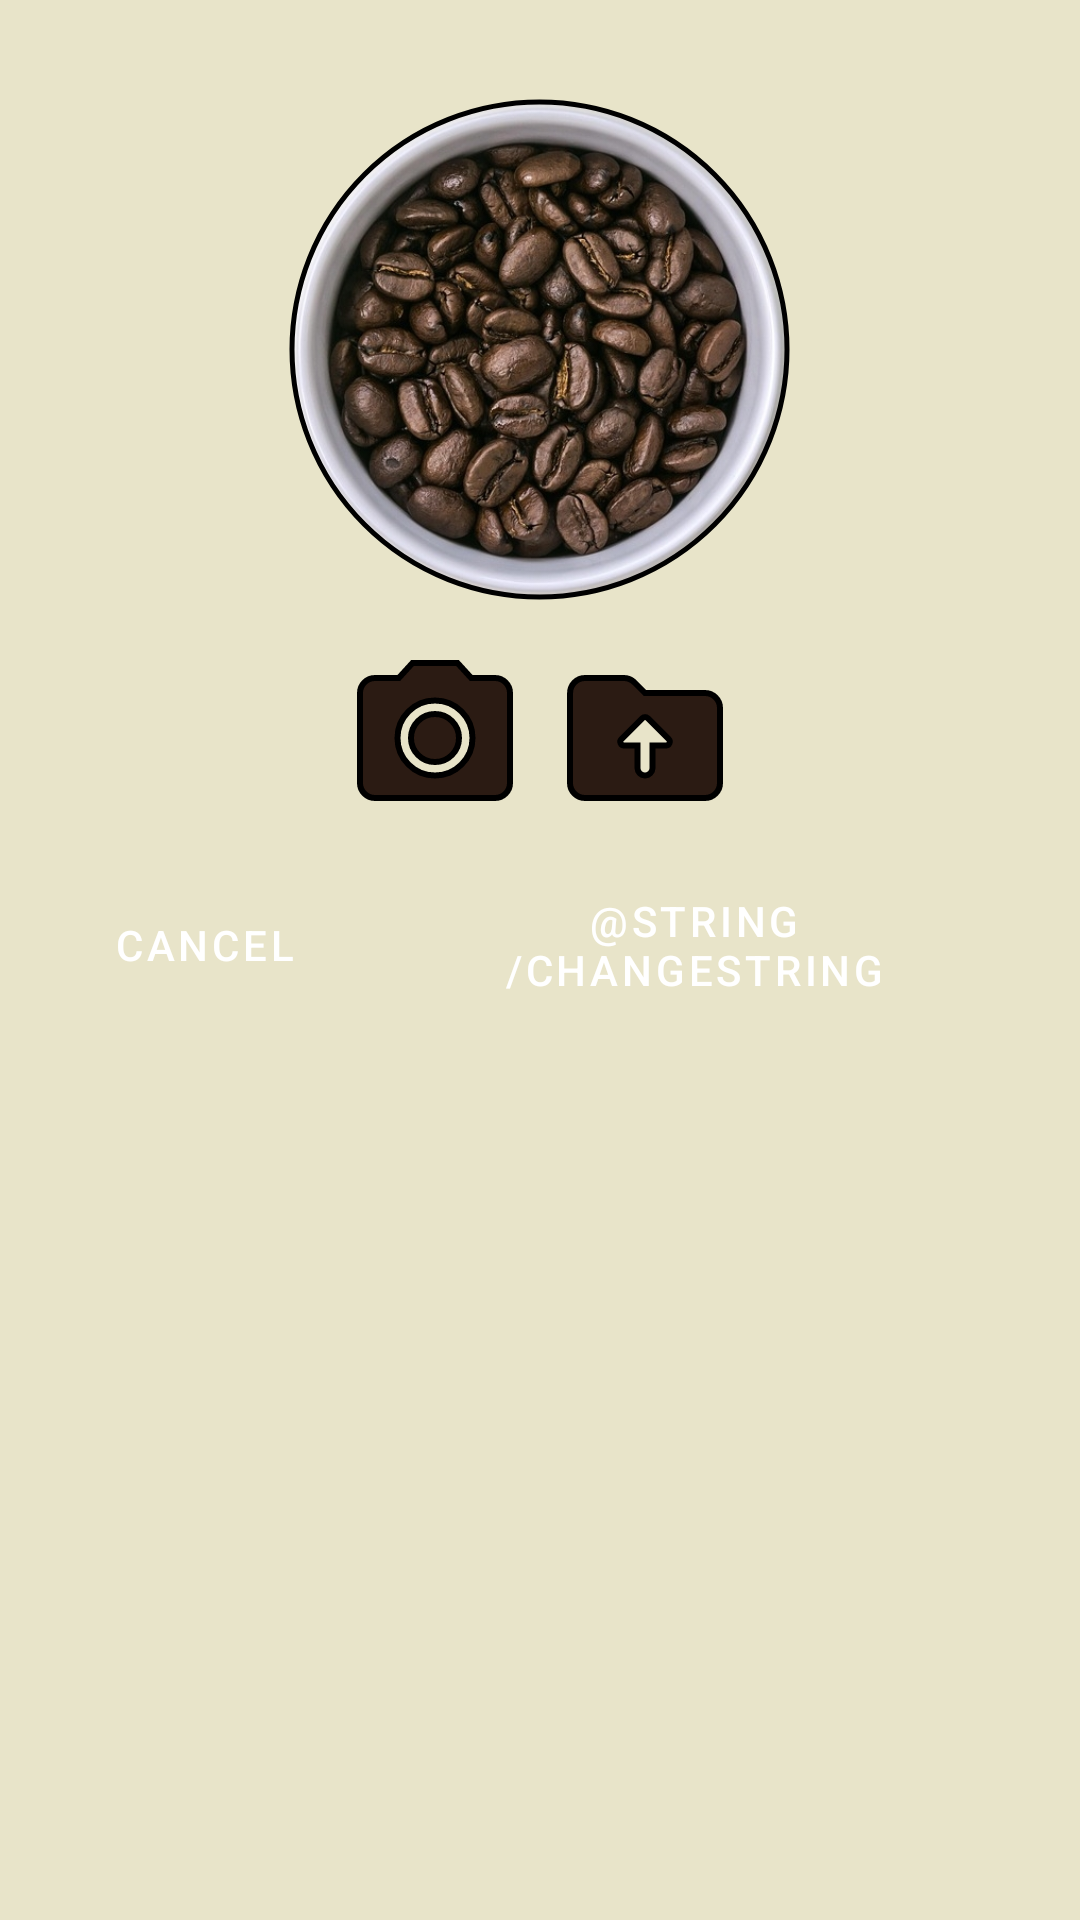

Icon click points for this 1080 × 1920 phone screenshot, format (x,y):
Choose a profile picture from your gallery: (645,738)
Create a new photo: (435,730)
